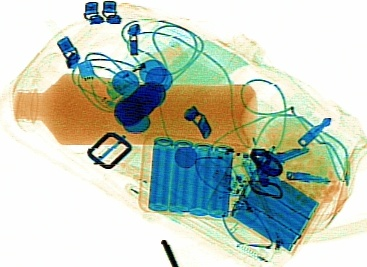lighter: (104, 42, 189, 100)
powerbank: (204, 147, 321, 256), (143, 132, 237, 218)
